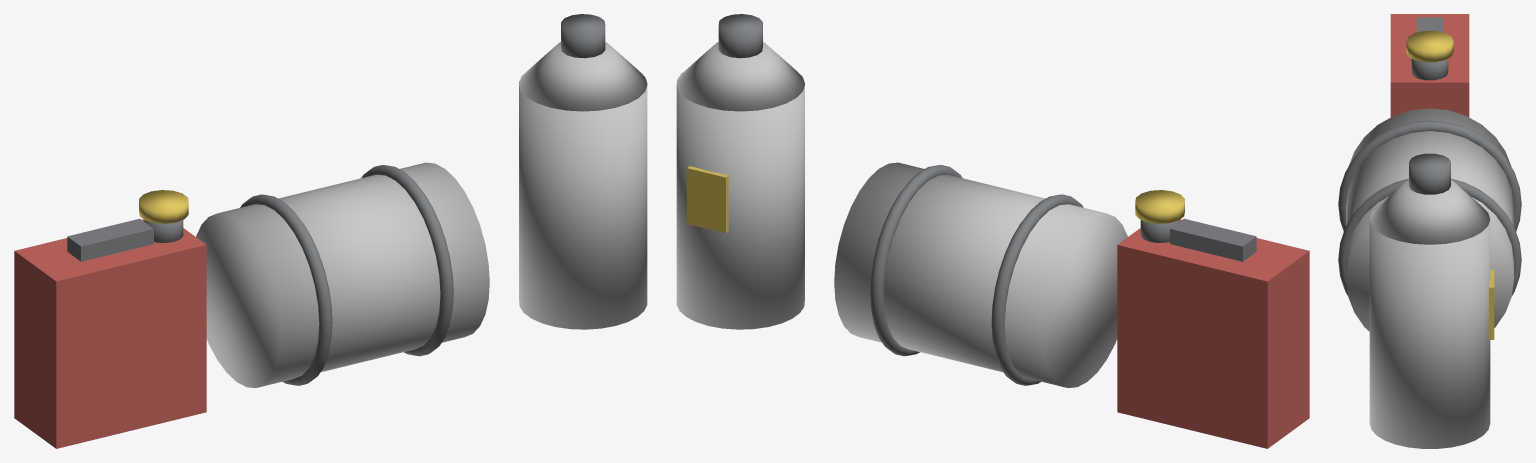
File: products_fuel_containers.glb
3 views of the same model, side by side, from view 1: azimuth 30°, elevation 25°; view 2: azimuth 150°, elevation 25°; view 3: azimuth 270°, elevation 25° (orthographic). The views are drawn at different scales.
Visible parts, largest first — view 1: diesel_drum, gasoline_can, jet_fuel_cartridge, jet_fuel_cartridge_shoulder, diesel_drum_rib_2, diesel_drum_rib_1, gasoline_can_handle, jet_fuel_cartridge_neck, gasoline_can_cap, gasoline_can_neck; view 2: diesel_drum, gasoline_can, jet_fuel_cartridge, jet_fuel_cartridge_shoulder, diesel_drum_rib_2, diesel_drum_rib_1, jet_fuel_cartridge_label, gasoline_can_handle, jet_fuel_cartridge_neck, gasoline_can_cap, gasoline_can_neck; view 3: jet_fuel_cartridge, diesel_drum, gasoline_can, jet_fuel_cartridge_shoulder, diesel_drum_rib_1, diesel_drum_rib_2, jet_fuel_cartridge_neck, gasoline_can_cap, gasoline_can_neck, jet_fuel_cartridge_label, gasoline_can_handle.
Part boxes in pixels (<box>): diesel_drum: <box>196,162,489,387</box>; gasoline_can: <box>14,219,206,448</box>; jet_fuel_cartridge: <box>519,73,647,329</box>; jet_fuel_cartridge_shoulder: <box>519,42,647,111</box>; diesel_drum_rib_2: <box>361,165,453,356</box>; diesel_drum_rib_1: <box>240,194,332,385</box>; gasoline_can_handle: <box>67,218,153,261</box>; jet_fuel_cartridge_neck: <box>561,14,605,58</box>; gasoline_can_cap: <box>139,190,188,223</box>; gasoline_can_neck: <box>144,220,183,242</box>; diesel_drum: <box>834,162,1127,387</box>; gasoline_can: <box>1117,219,1309,448</box>; jet_fuel_cartridge: <box>676,73,804,329</box>; jet_fuel_cartridge_shoulder: <box>676,42,804,111</box>; diesel_drum_rib_2: <box>870,165,962,356</box>; diesel_drum_rib_1: <box>991,194,1083,385</box>; jet_fuel_cartridge_label: <box>687,166,728,233</box>; gasoline_can_handle: <box>1170,218,1256,261</box>; jet_fuel_cartridge_neck: <box>718,14,762,58</box>; gasoline_can_cap: <box>1135,190,1184,223</box>; gasoline_can_neck: <box>1140,220,1179,242</box>; jet_fuel_cartridge: <box>1369,207,1490,448</box>; diesel_drum: <box>1346,108,1513,331</box>; gasoline_can: <box>1390,14,1469,116</box>; jet_fuel_cartridge_shoulder: <box>1369,179,1490,244</box>; diesel_drum_rib_1: <box>1338,120,1521,231</box>; diesel_drum_rib_2: <box>1338,178,1521,295</box>; jet_fuel_cartridge_neck: <box>1409,153,1450,194</box>; gasoline_can_cap: <box>1406,31,1453,62</box>; gasoline_can_neck: <box>1411,59,1448,80</box>; jet_fuel_cartridge_label: <box>1489,270,1494,339</box>; gasoline_can_handle: <box>1417,17,1442,32</box>.
Bounding box in the file's own units: 2.49 × 1.11 × 0.7.
